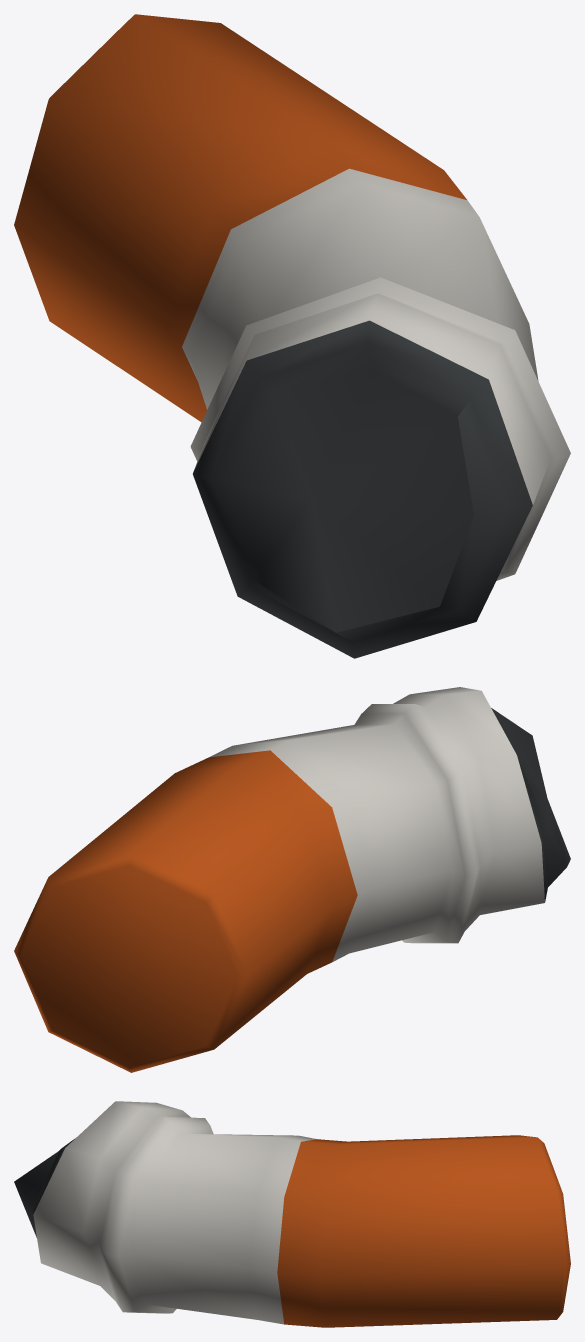
Rendered from Cigarro_03.fbx.
The picture shows the model from 3 angles, top to bottom: view 1: azimuth 30°, elevation 25°; view 2: azimuth 150°, elevation 25°; view 3: azimuth 270°, elevation 25°; orthographic projection. The views are drawn at different scales.
Parts seen in each view (by area): view 1: Cigarro_03; view 2: Cigarro_03; view 3: Cigarro_03.
Part boxes in pixels (<box>): Cigarro_03: <box>14,14,570,658</box>; Cigarro_03: <box>14,687,570,1072</box>; Cigarro_03: <box>14,1101,570,1327</box>.
Bounding box in the file's own units: 12.21 × 9.39 × 23.78.
